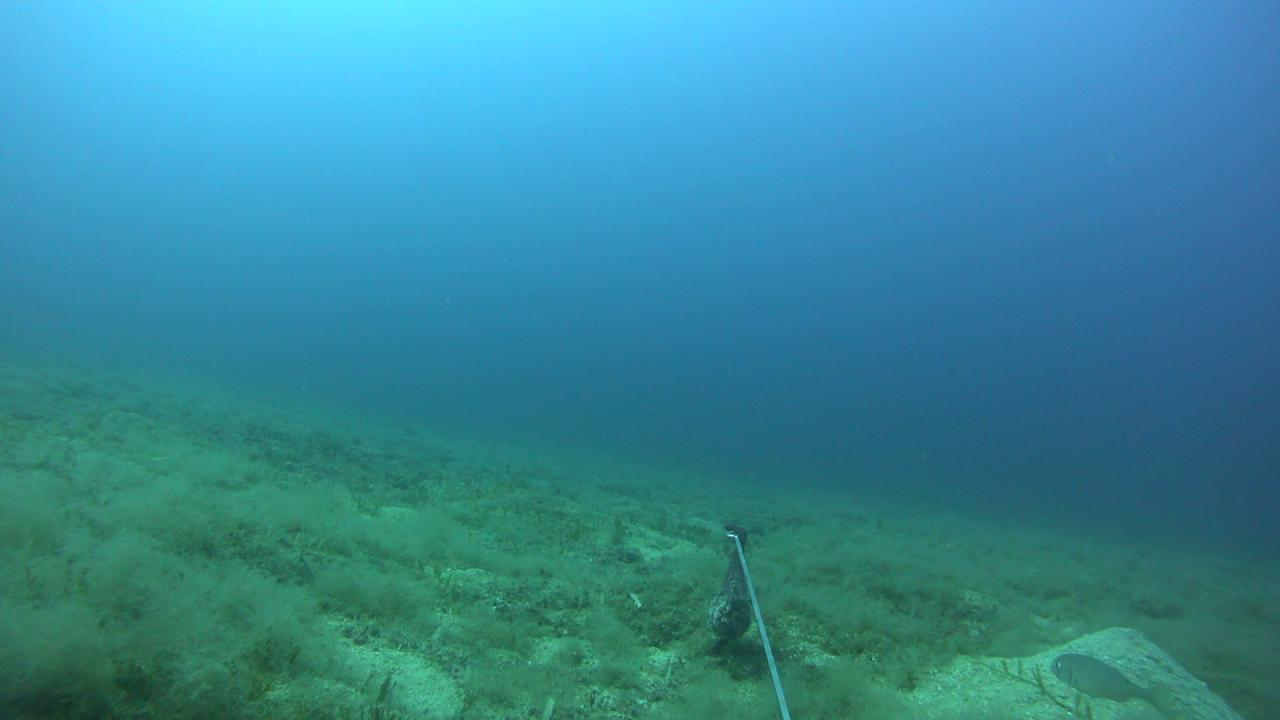pagellus: (1048, 652, 1175, 717)
